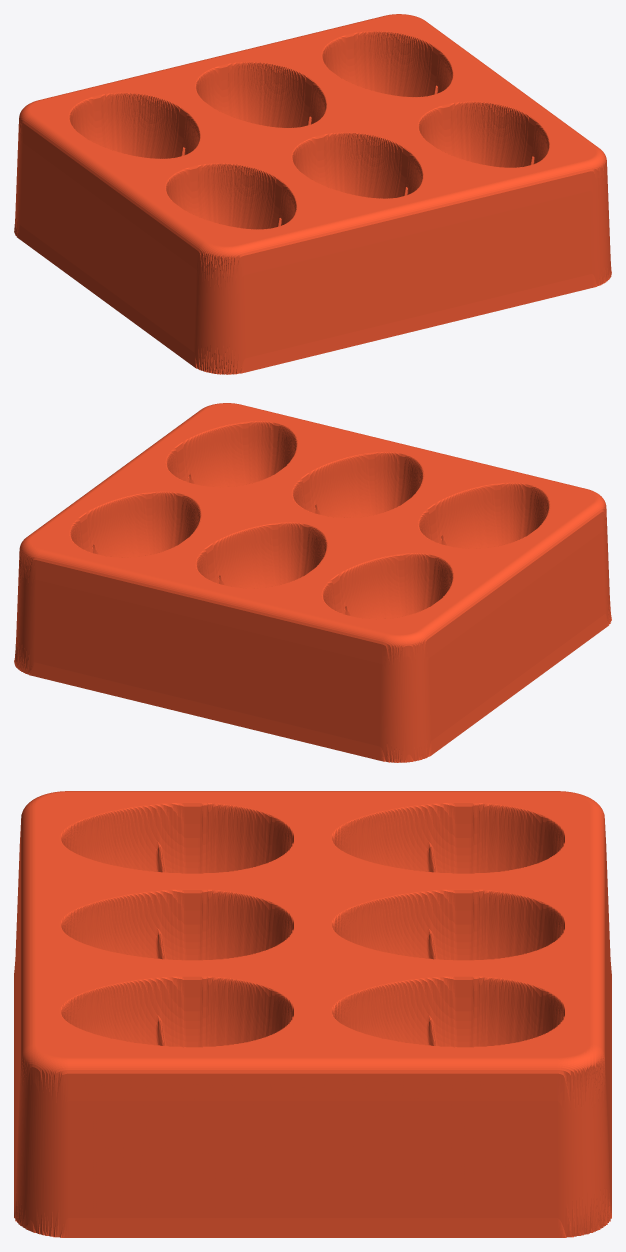
Rendered from mold.glb.
3 views of the same model, one above another, from view 1: azimuth 30°, elevation 25°; view 2: azimuth 150°, elevation 25°; view 3: azimuth 270°, elevation 25° (orthographic). The views are drawn at different scales.
Parts seen in each view (by area): view 1: geometry_0; view 2: geometry_0; view 3: geometry_0.
Boxes of the visible parts, <box> form: geometry_0: <box>14,14,611,374</box>; geometry_0: <box>14,403,611,762</box>; geometry_0: <box>14,791,611,1237</box>.
Bounding box in the file's own units: 0.1118 × 0.0314 × 0.0996.
